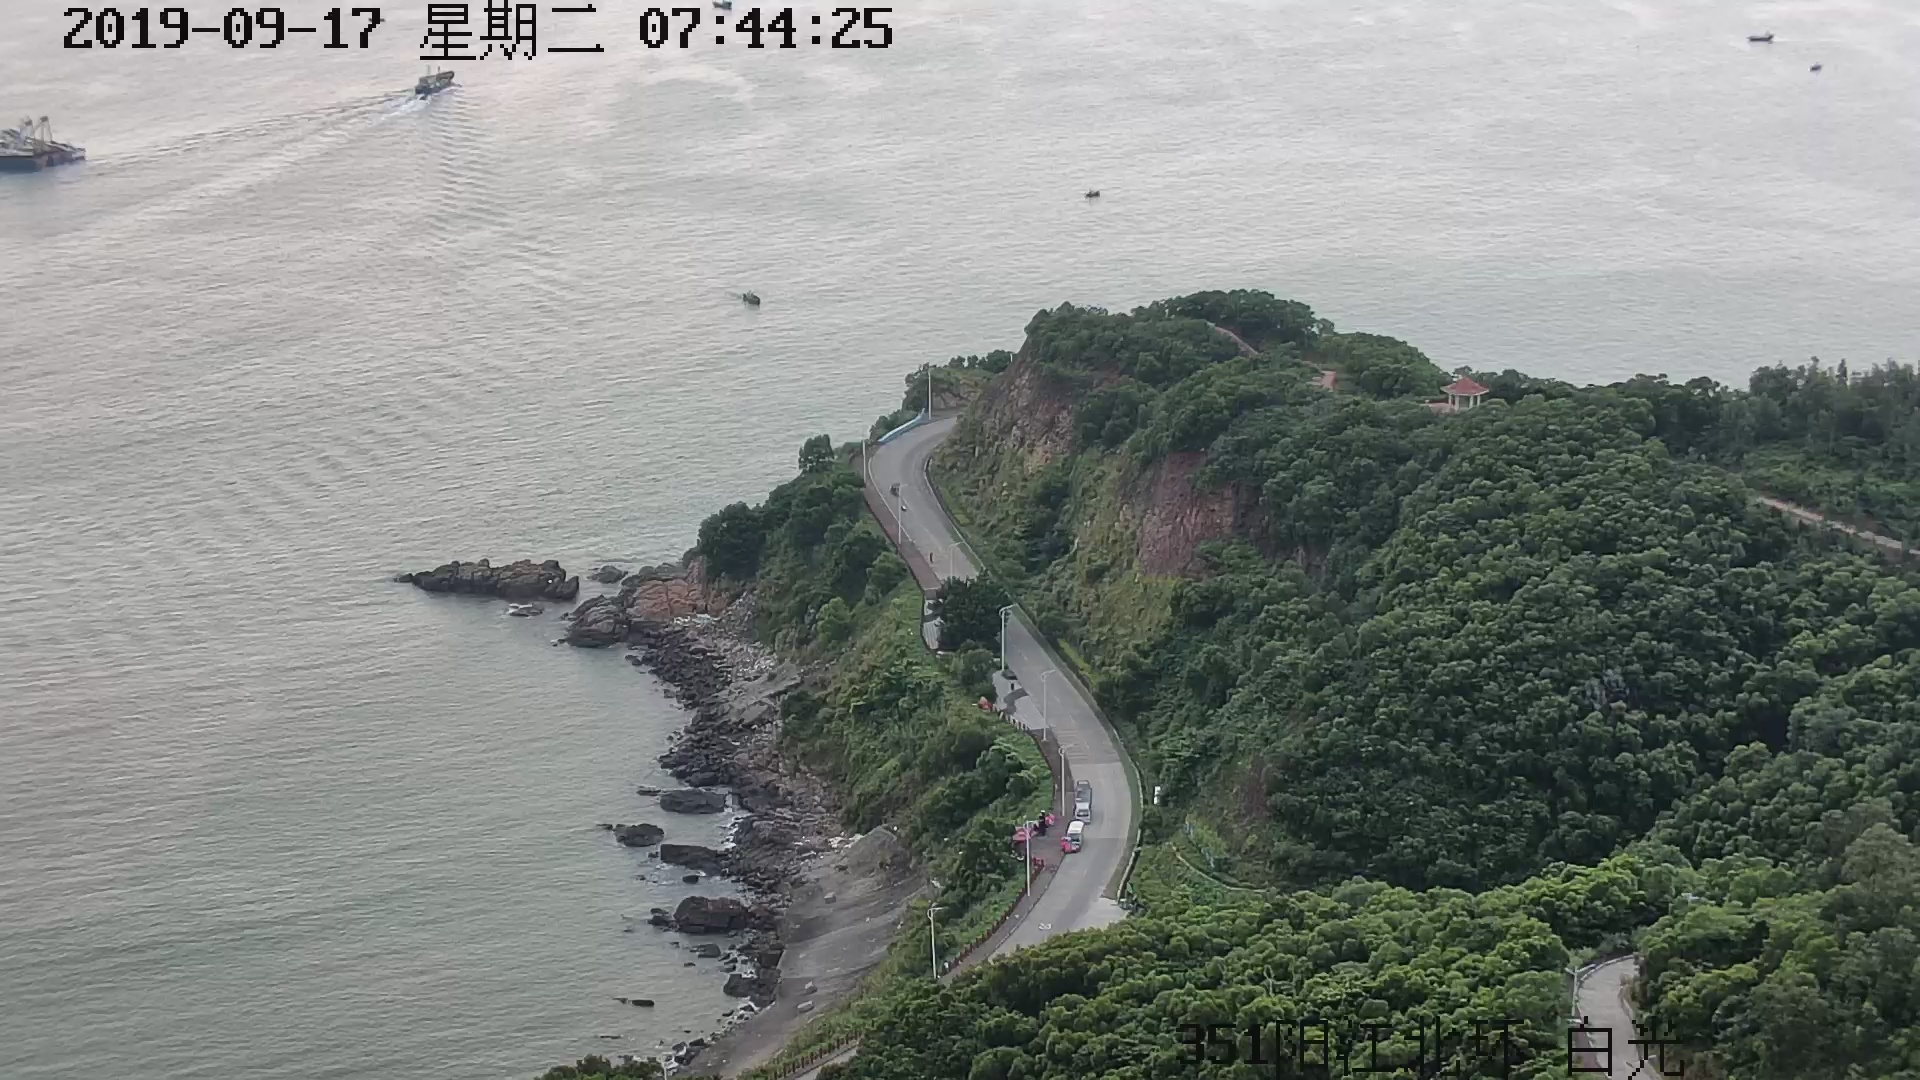ship: (411, 61, 455, 104)
